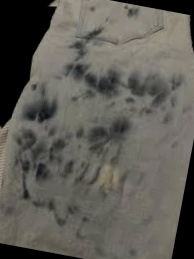ink: (2, 121, 82, 219), (123, 68, 183, 126), (60, 58, 121, 102), (84, 116, 132, 165), (68, 22, 103, 64), (21, 92, 57, 126), (123, 6, 140, 21)
